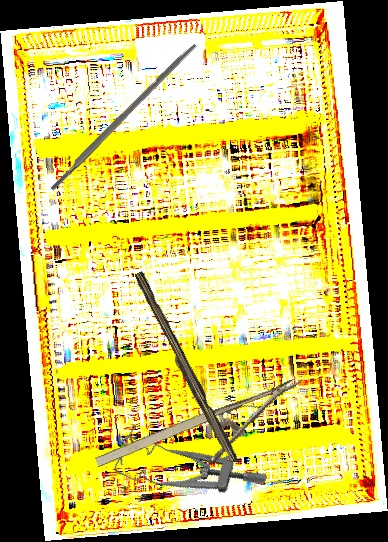Needle Holder: (92, 377, 317, 500)
Scalpel Handle: (47, 41, 199, 192), (128, 270, 242, 466)
Speculum: (110, 413, 269, 531)
